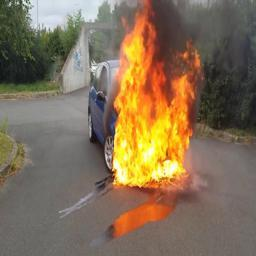fire: (113, 1, 204, 187)
